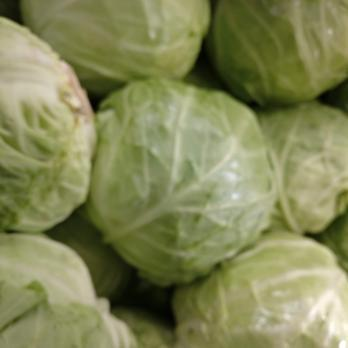Cabbage: (2, 0, 348, 348)
